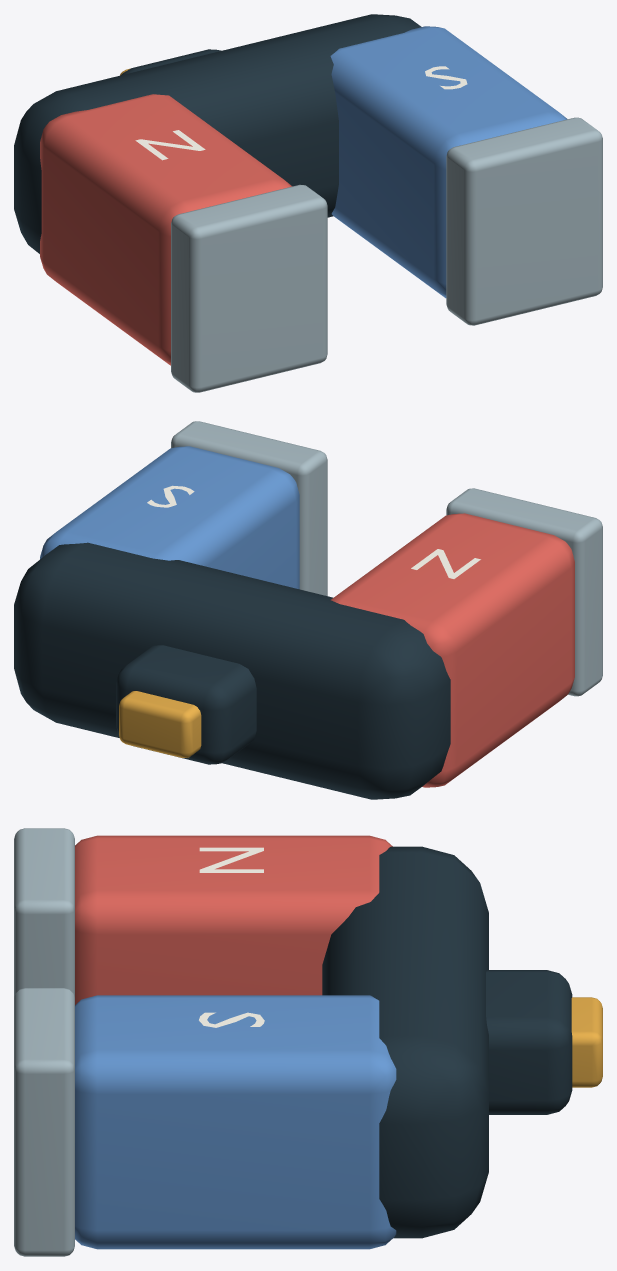
The model's file is part_magnet.glb.
The picture shows the model from 3 angles, top to bottom: view 1: azimuth 30°, elevation 25°; view 2: azimuth 150°, elevation 25°; view 3: azimuth 270°, elevation 25°; orthographic projection. The views are drawn at different scales.
Visible parts, largest first — view 1: Red magnet arm, Blue magnet arm, Bare steel pole.001, Bare steel pole, Magnet rounded bridge, Print N; view 2: Magnet rounded bridge, Red magnet arm, Blue magnet arm, Universal rubber mounting pad.011, Bare steel pole, Bare steel pole.001, Snap-in brass tongue.011, Print N; view 3: Blue magnet arm, Red magnet arm, Magnet rounded bridge, Bare steel pole.001, Universal rubber mounting pad.011, Bare steel pole, Snap-in brass tongue.011, Print N.
Part boxes in pixels (box(x1,y1,x2,y2)): Red magnet arm: box(40, 94, 292, 365); Blue magnet arm: box(330, 26, 567, 298); Bare steel pole.001: box(446, 117, 602, 325); Bare steel pole: box(171, 184, 327, 392); Magnet rounded bridge: box(14, 14, 421, 253); Print N: box(135, 130, 205, 160); Magnet rounded bridge: box(14, 542, 450, 799); Red magnet arm: box(331, 513, 574, 787); Blue magnet arm: box(40, 446, 299, 589); Universal rubber mounting pad.011: box(116, 645, 256, 764); Bare steel pole: box(446, 488, 602, 696); Bare steel pole.001: box(171, 421, 327, 595); Snap-in brass tongue.011: box(119, 691, 201, 757); Print N: box(411, 549, 480, 578); Blue magnet arm: box(75, 995, 396, 1249); Red magnet arm: box(75, 835, 392, 1004); Magnet rounded bridge: box(322, 846, 488, 1238); Bare steel pole.001: box(14, 988, 74, 1256); Universal rubber mounting pad.011: box(486, 970, 572, 1114); Bare steel pole: box(14, 828, 74, 997); Snap-in brass tongue.011: box(571, 997, 602, 1087); Print N: box(199, 847, 263, 872).
Size of the model in its own units: 0.0204 by 0.00796 by 0.0212.
